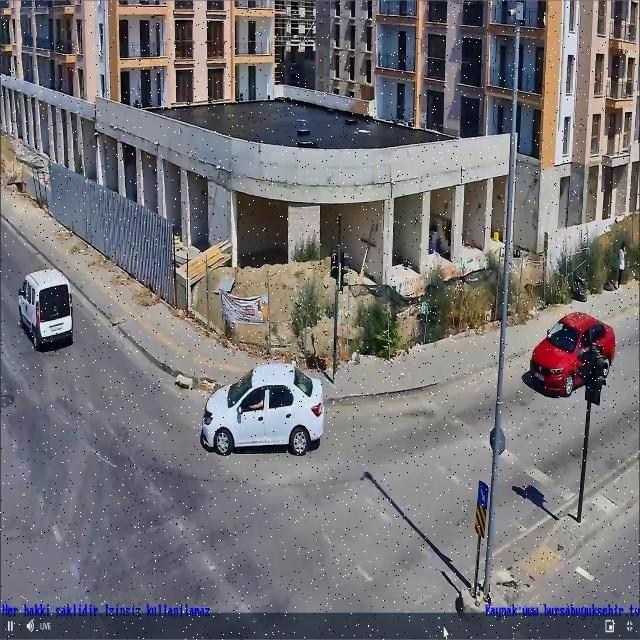Car: (192, 351, 344, 454), (509, 308, 619, 411)
Van: (3, 266, 88, 348)
